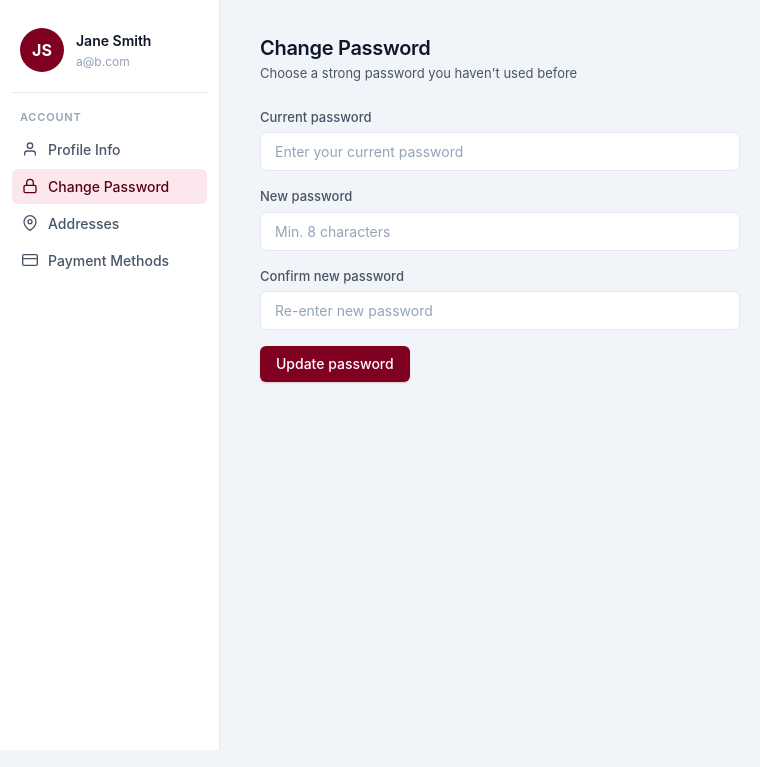
Test: Profile page › ChangePasswordTab › shows validation error when passwords do not match
Type "oldpass1" into the password field labelled "Current password".
click(500, 152); type("oldpass1")  # box 260,132 -> 740,171
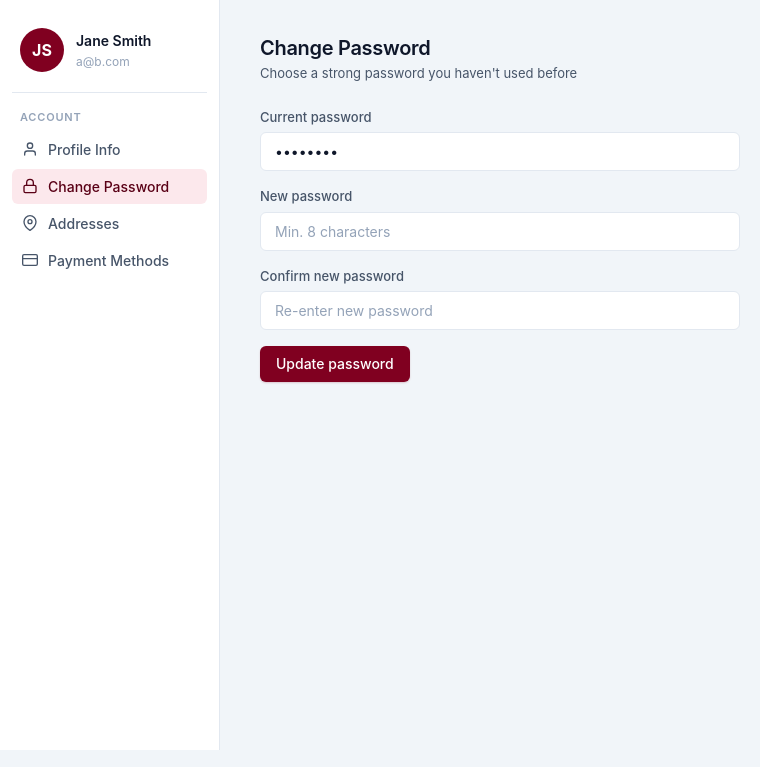
Type "newpass123" into the password field labelled "New password".
click(500, 231); type("newpass123")  # box 260,212 -> 740,250
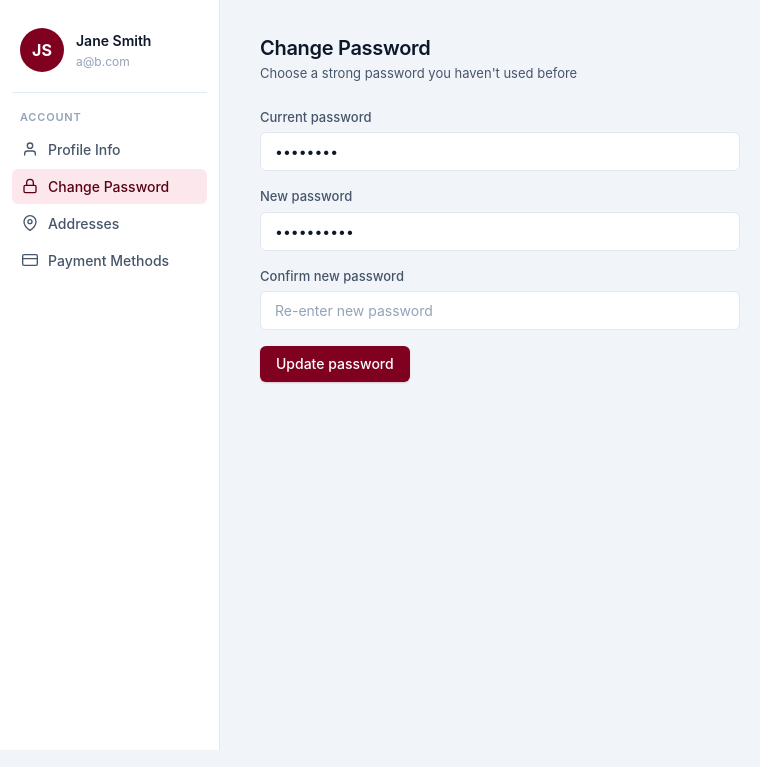
Type "different" into the password field labelled "Confirm new password".
click(500, 310); type("different")  # box 260,291 -> 740,330
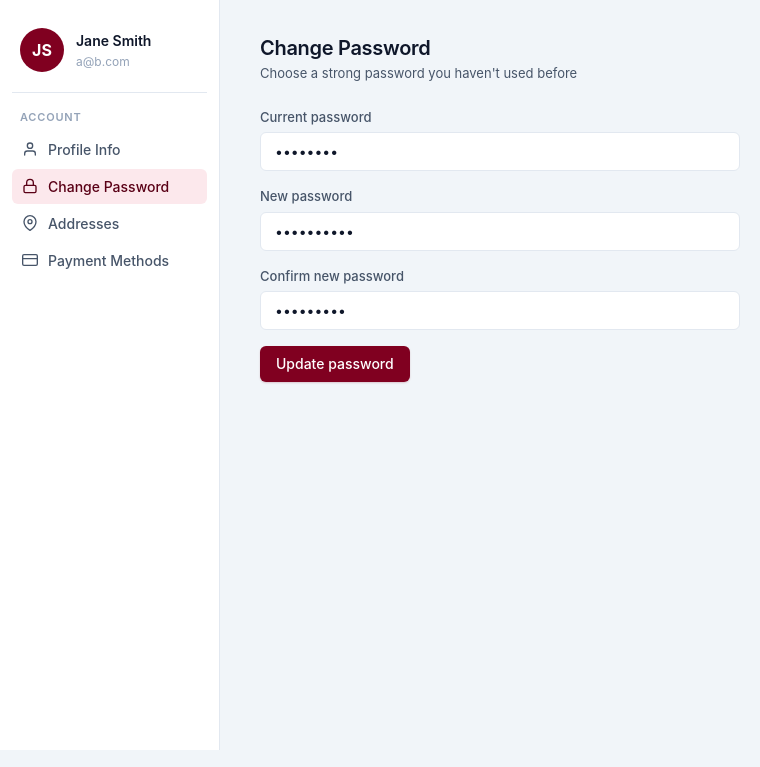
Click the button "Update password".
click(335, 364)  # box 260,346 -> 410,382
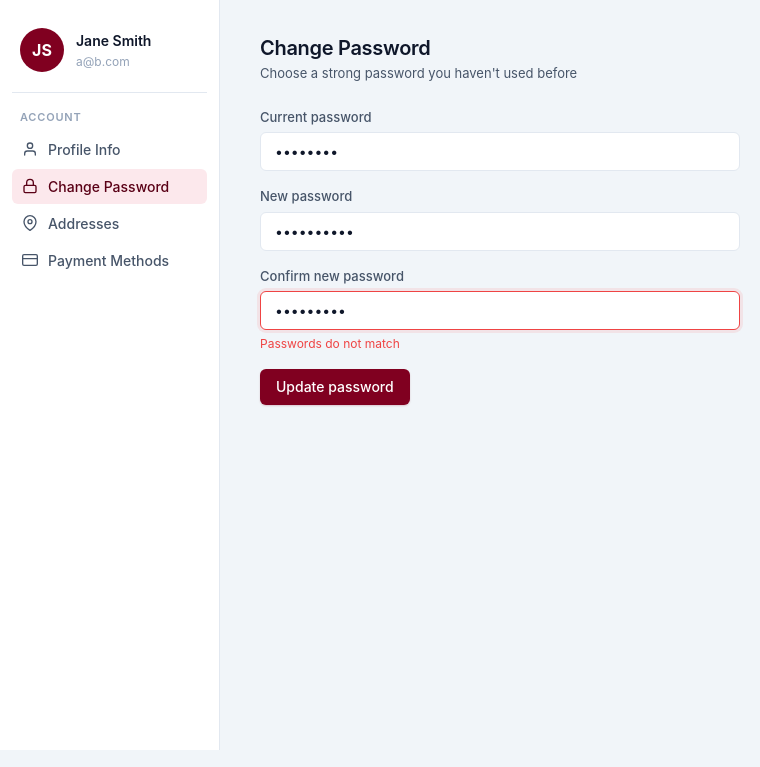
Check: the text "Passwords do not match" is shown, box 260,336 -> 400,351
